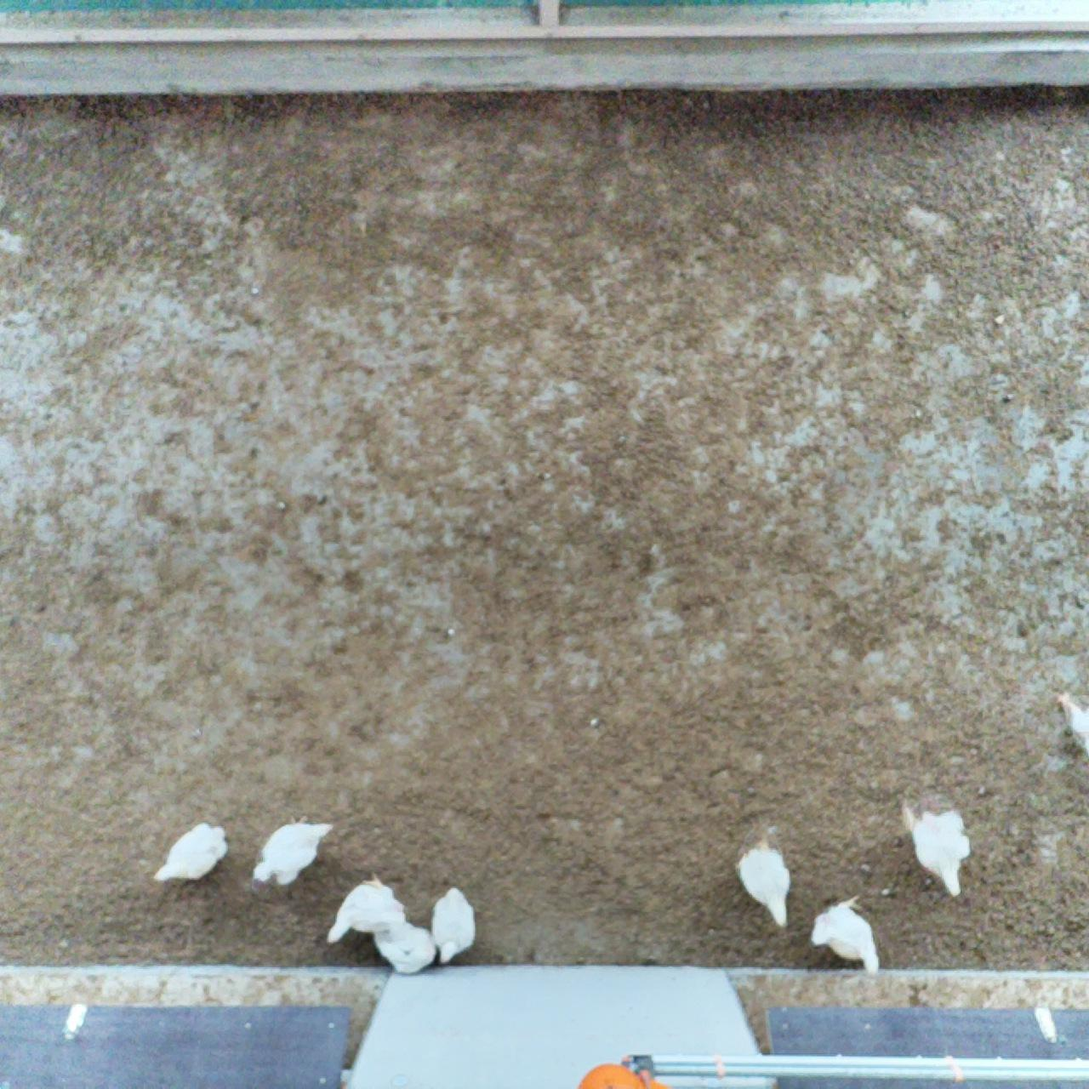chicken: (906, 803, 972, 904), (254, 810, 336, 888), (731, 828, 791, 930), (327, 871, 405, 947), (809, 896, 881, 977), (153, 818, 230, 891), (428, 885, 479, 965), (372, 924, 440, 976), (1054, 690, 1089, 756)
